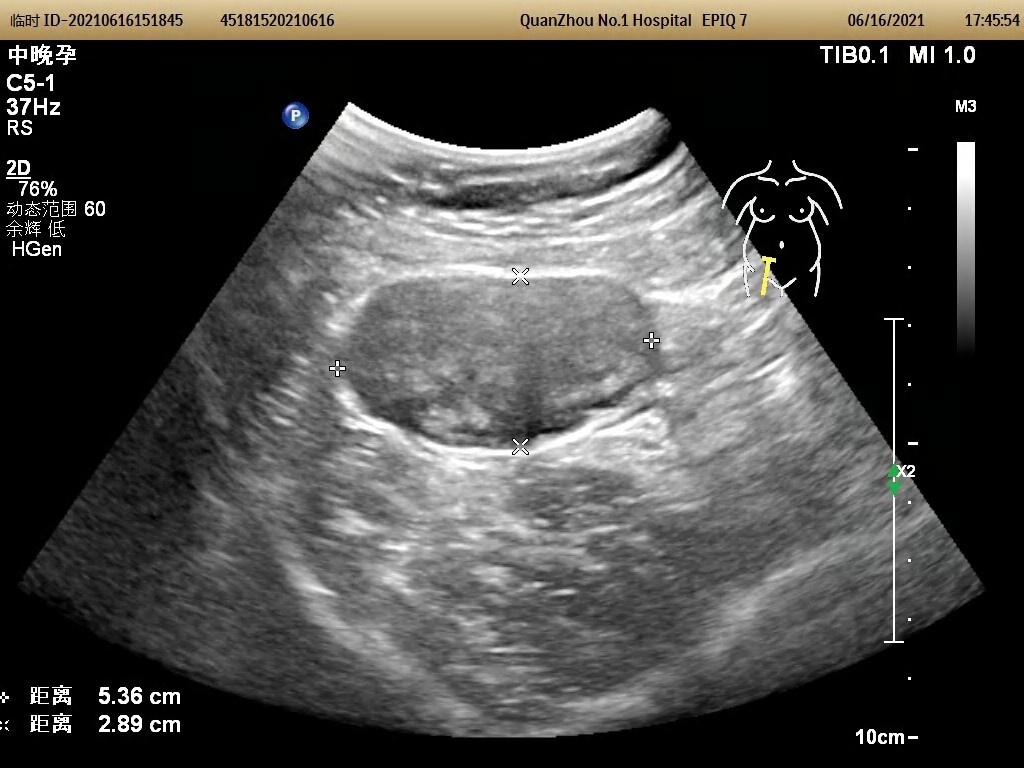肌瘤: (338, 279, 655, 445)
